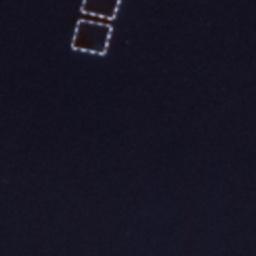square_solid: (70, 17, 115, 58)
